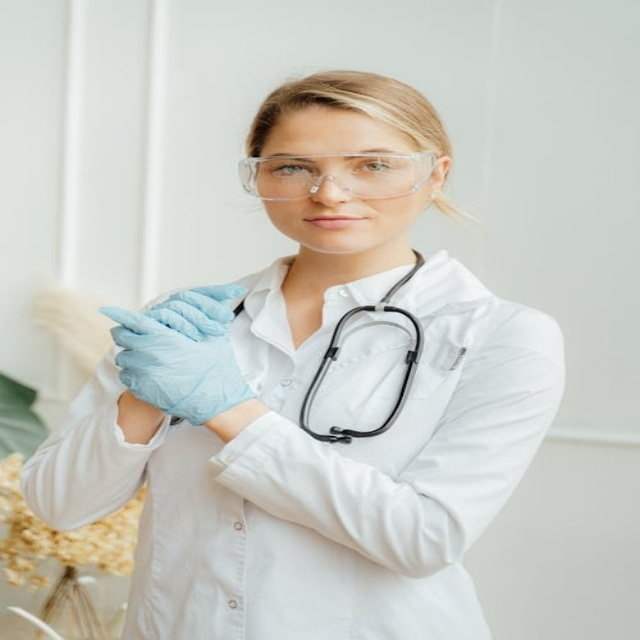Gafas: (233, 142, 440, 203)
Guantes: (99, 282, 262, 424)
Sin_mascara: (285, 208, 389, 237)
